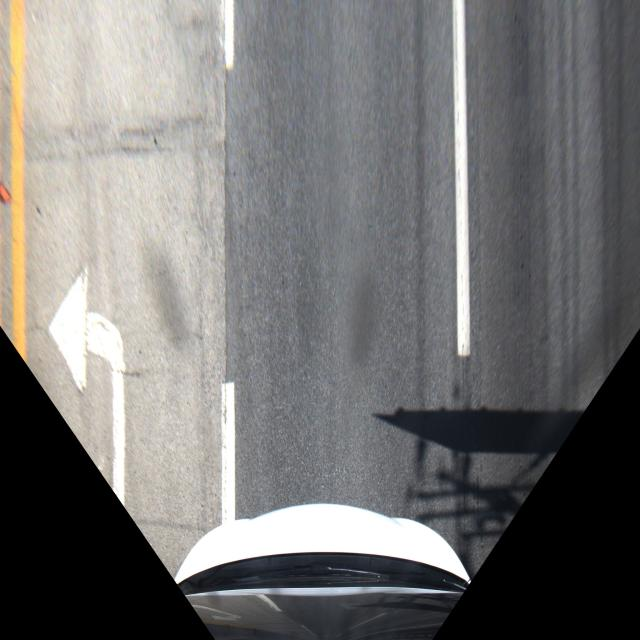left: (12, 255, 247, 520)
